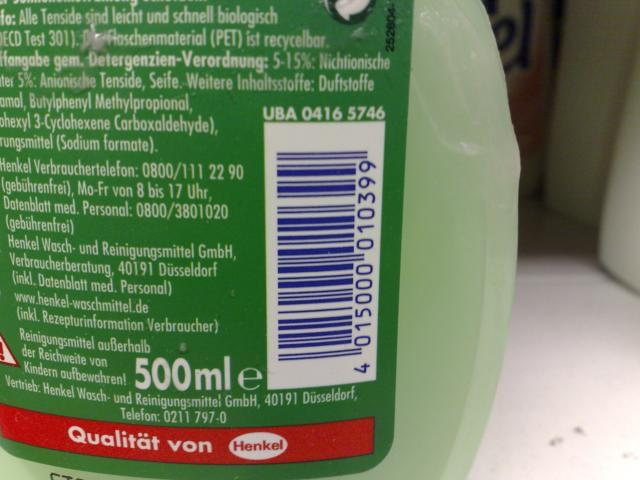Barcode: (263, 123, 385, 389)
